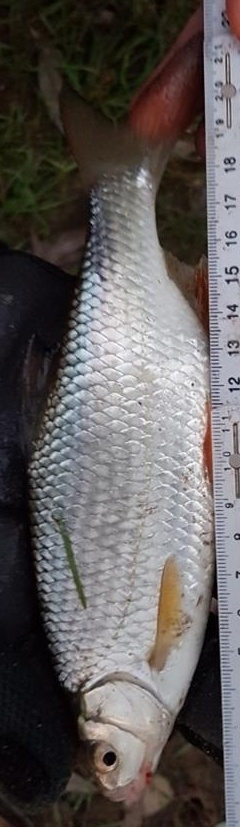Rutilus rutilus: (20, 20, 220, 807)
